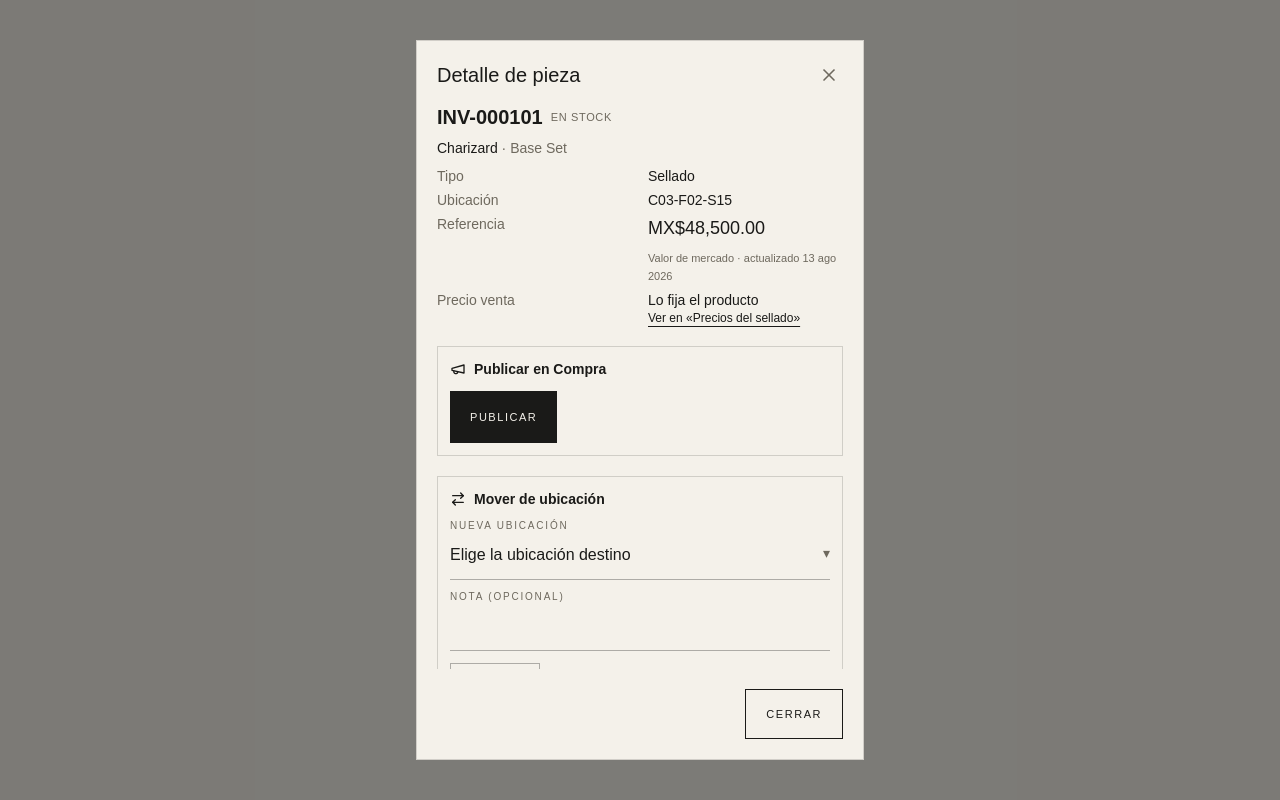
Test: ItemDetailModal · §70.3 (c) sellado ligado / sin producto › 422 SEALED_PRICE_IS_PER_PRODUCT ⇒ «del producto, no de la pieza» + enlace
Click the button "Publicar". click: (504, 417)
box: top-left (450, 391), bottom-right (557, 443)
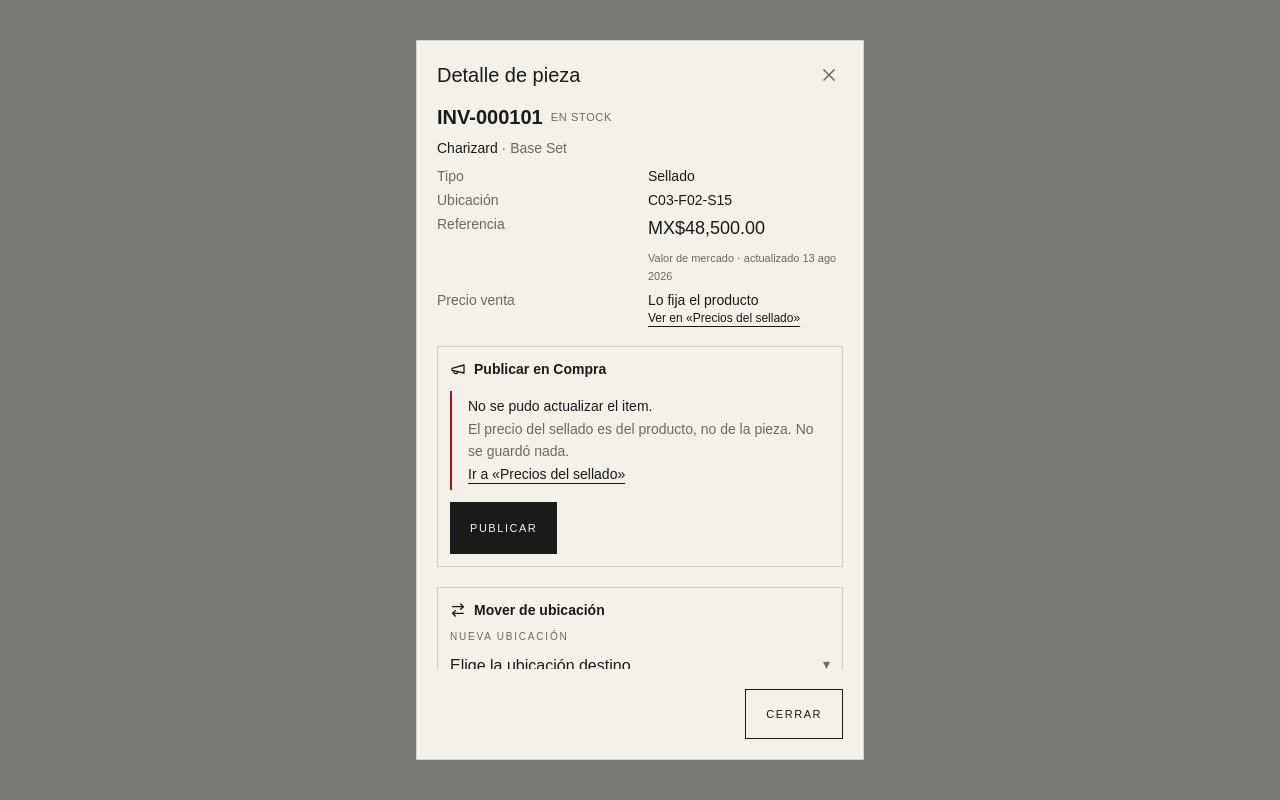
Expected: the message shows "El precio del sellado es del producto, no de la pieza. No se guardó nada.", top-left (468, 420), bottom-right (814, 459)
Expected: the link "Ir a «Precios del sellado»" is shown, top-left (468, 466), bottom-right (625, 482)
